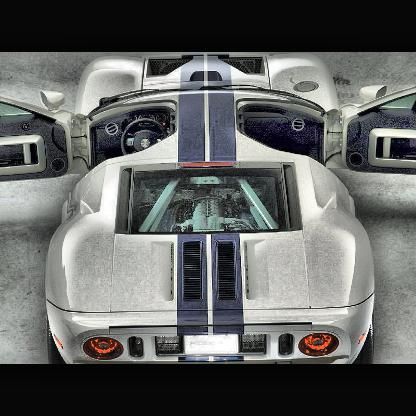Ford GT Coupe 2006: (2, 54, 416, 364)
